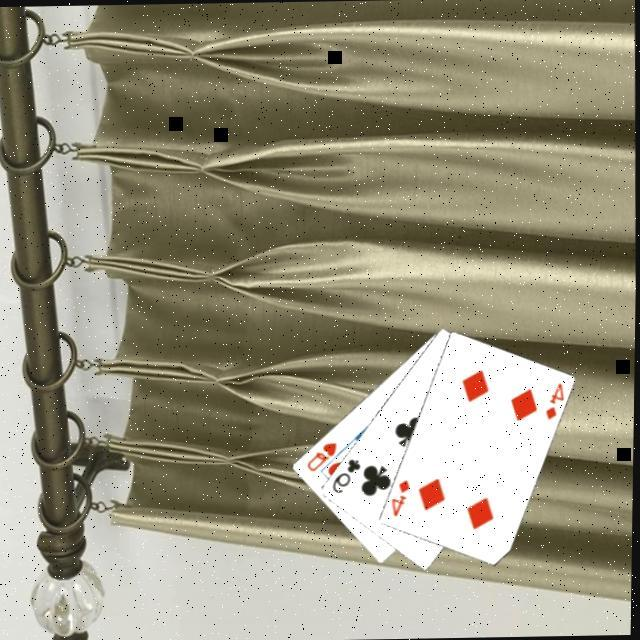4D: (542, 377, 568, 421), (387, 473, 412, 518)
6C: (328, 453, 364, 494)
QH: (302, 436, 340, 472)
